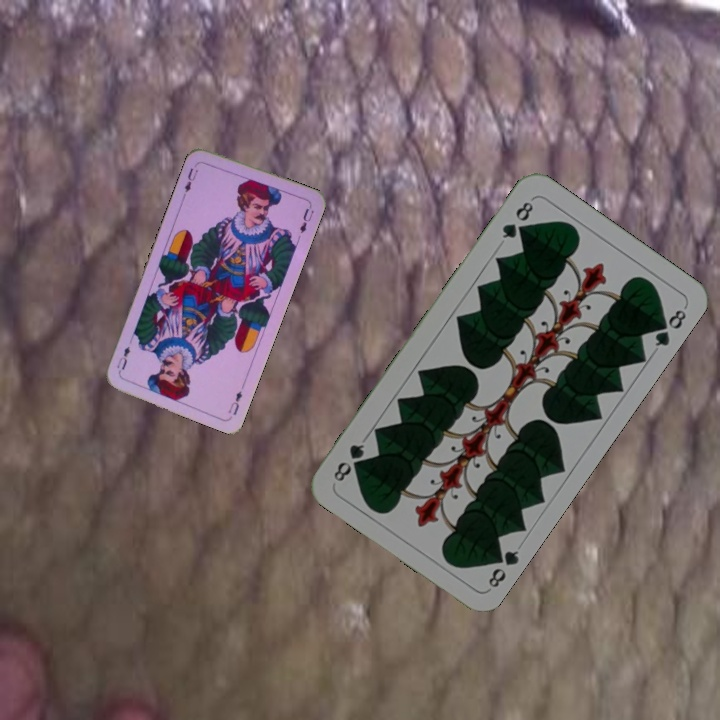EU: (179, 159, 201, 198), (224, 387, 245, 418)
G8: (484, 544, 522, 593), (498, 197, 536, 241)
